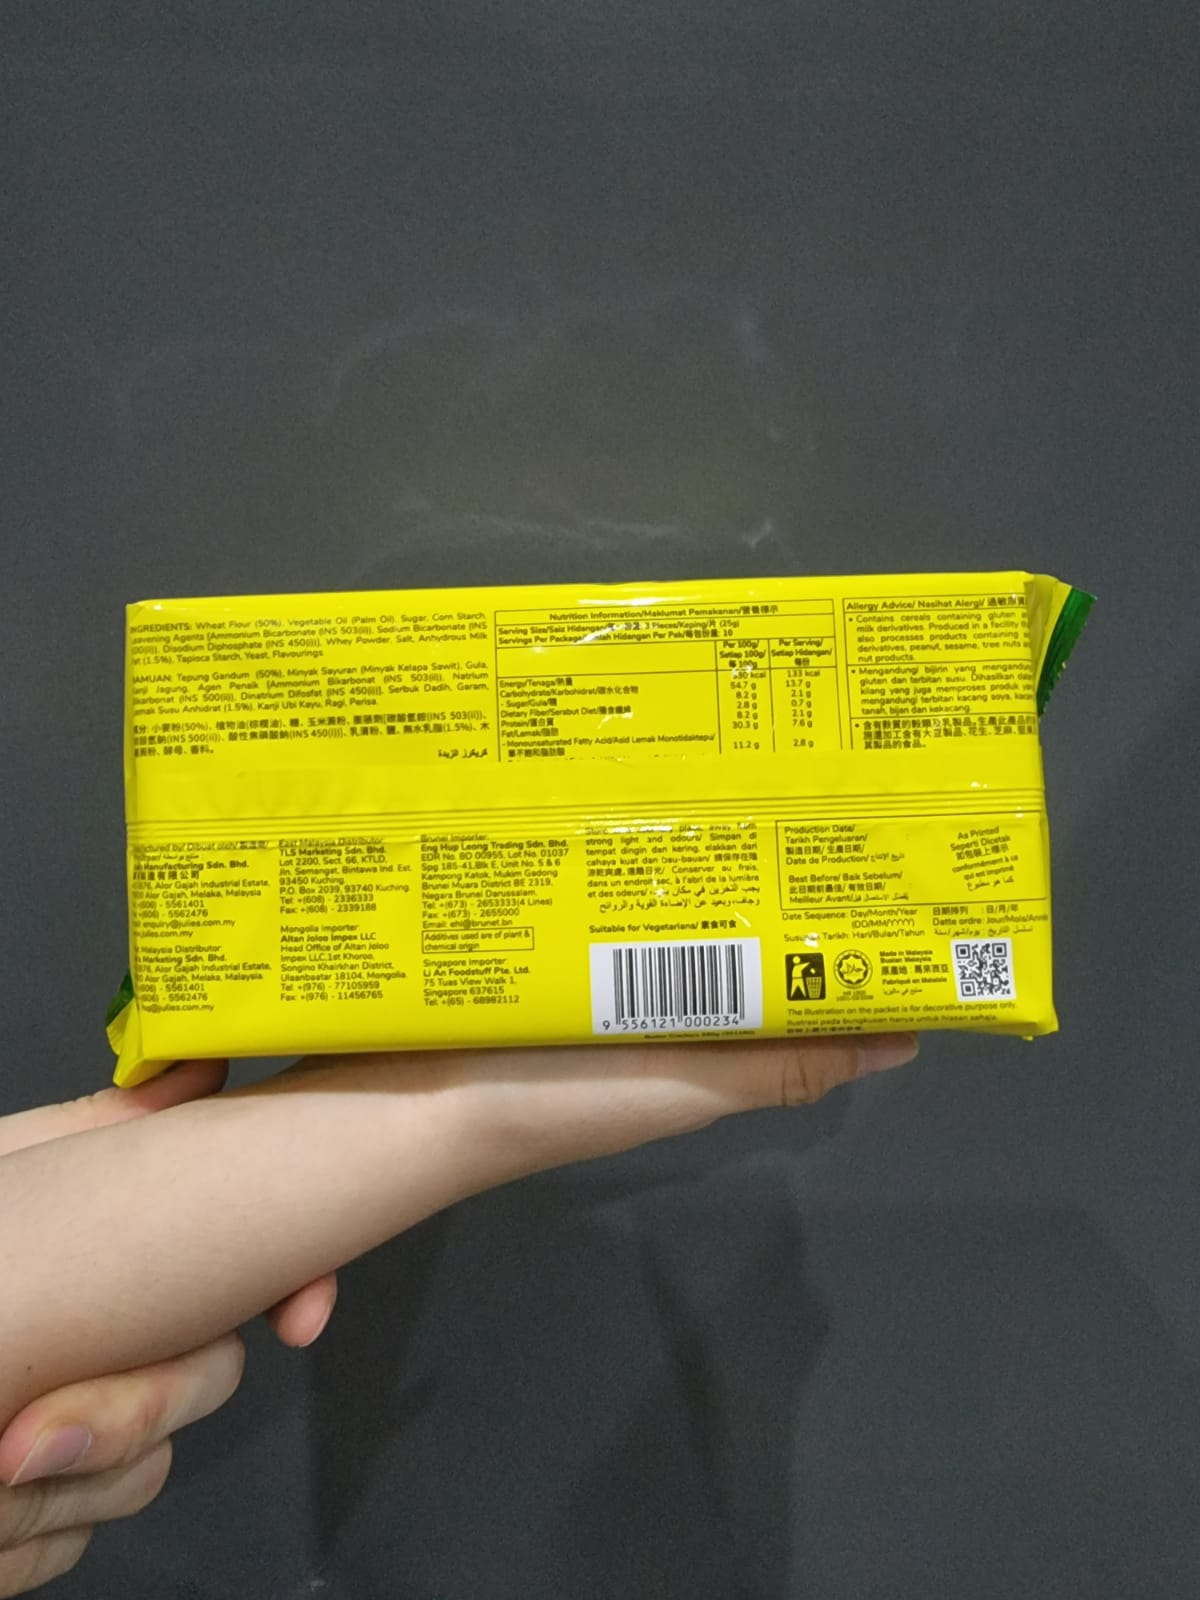Biscuits: (141, 606, 1031, 1029)
